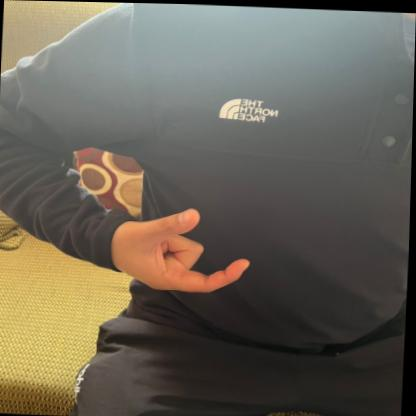G: (98, 195, 256, 298)
